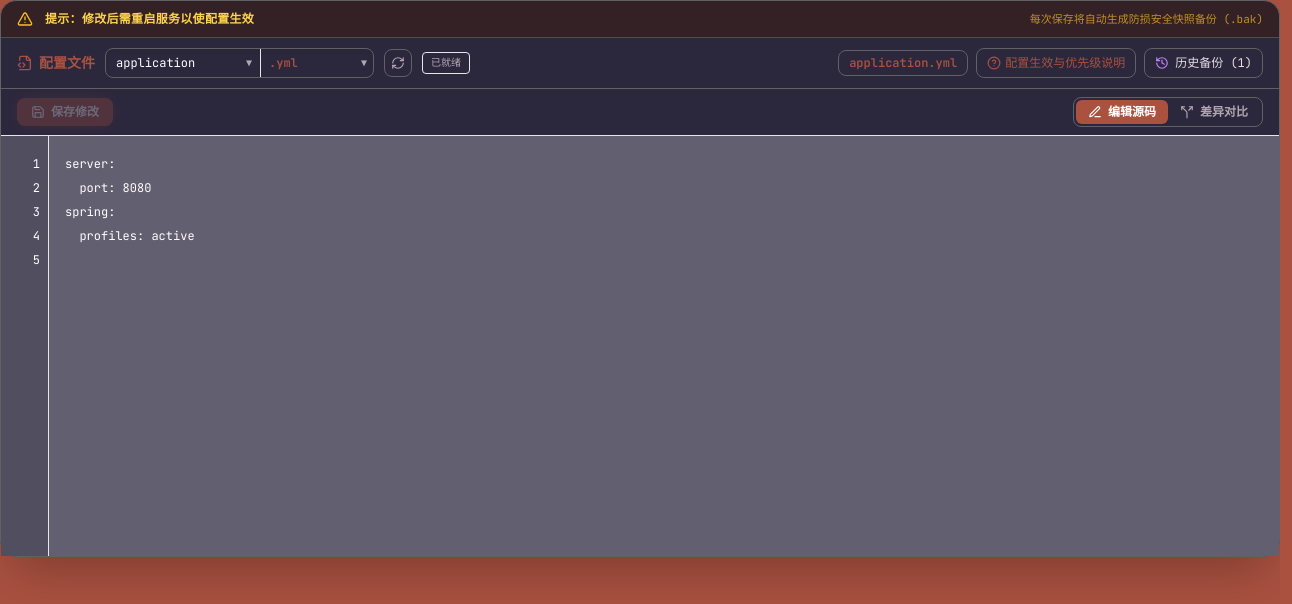
Test: ConfigDiffEditor › hides delete buttons for non-admin operator users
What coordinates should you click on to do the following:
click the button with test id "config-backups-button"
I would click on:
 (1204, 63)
Its box is [1144,48,1263,78].
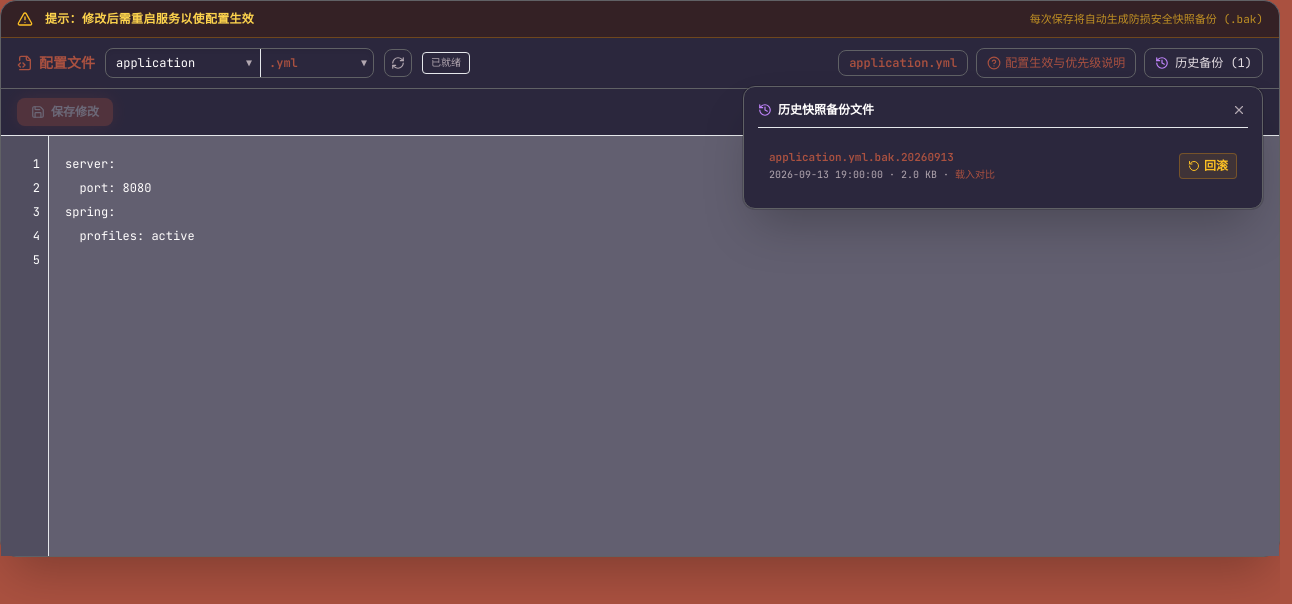
Check: the element with test id "config-backups-dropdown" is shown, box [743,86,1263,209]
